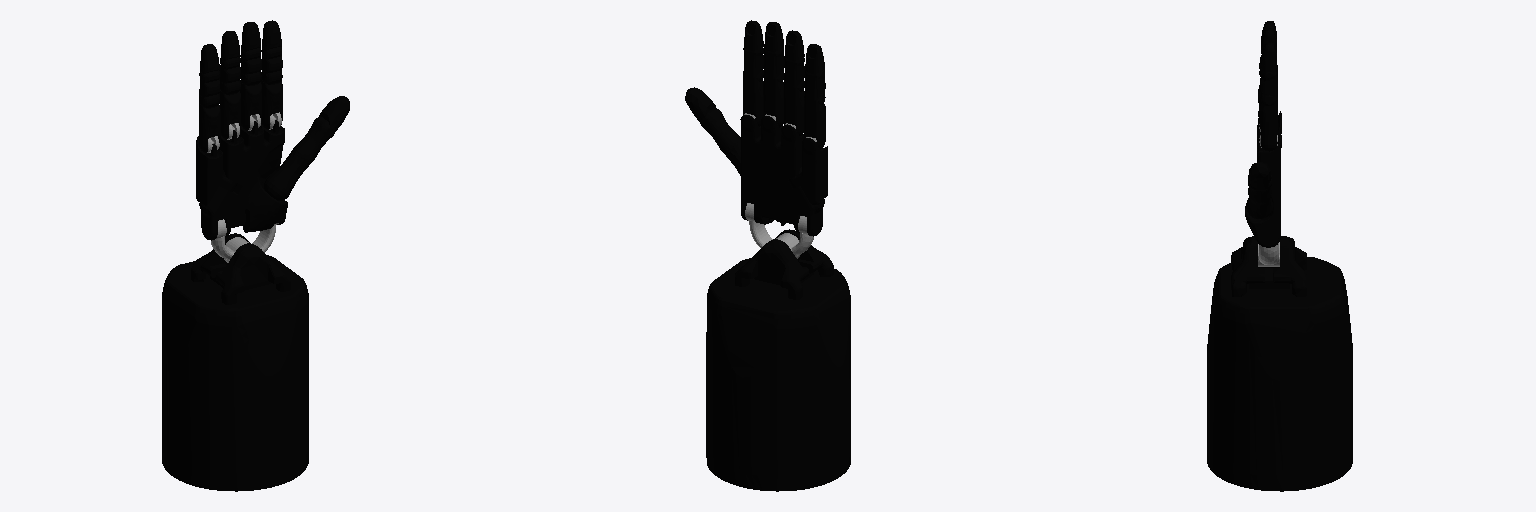
The robot description file, URDF, robot "shadow_hand":
<?xml version="1.0" ?>
<robot name="shadow_hand">

    <!-- Forearm-Wrist-Palm Links -->
    <link name="forearm">
        <visual>
            <geometry name="forearm_visual">
                <mesh filename="meshes/visual/forearm.dae"/>
            </geometry>
        </visual>
        <collision>
            <geometry name="forearm_collision">
                <mesh filename="meshes/collision/forearm.stl"/>
            </geometry>
        </collision>
    </link>

    <link name="wrist">
        <visual>
            <geometry name="wrist_visual">
                <mesh filename="meshes/visual/wrist.dae"/>
            </geometry>
        </visual>
        <collision>
            <geometry name="wrist_collision">
                <mesh filename="meshes/collision/wrist.stl"/>
            </geometry>
        </collision>
    </link>

    <link name="palm">
        <visual>
            <geometry name="palm_visual">
                <mesh filename="meshes/visual/palm.dae"/>
            </geometry>
        </visual>
        <collision>
            <geometry name="palm_collision">
                <mesh filename="meshes/collision/palm.stl"/>
            </geometry>
        </collision>
    </link>


    <!-- Forearm-Wrist Joints -->
    <joint name="forearm_joint" type="revolute">
        <parent link="forearm"/>
        <child link="wrist"/>
        <origin rpy="0 0 0" xyz="0 -0.010 0.213"/>
        <axis xyz="0 1 0"/>
        <limit effort="10.0" lower="-0.523598775598" upper="0.174532925199" velocity="2.0"/>
    </joint>

    <joint name="wrist_joint" type="revolute">
        <parent link="wrist"/>
        <child link="palm"/>
        <origin rpy="0 0 0" xyz="0 0 0.034"/>
        <axis xyz="1 0 0"/>
        <limit effort="5.0" lower="-0.698131700798" upper="0.488692190558" velocity="2.0"/>
    </joint>


    <!-- Thumb Links -->
    <link name="thumb_base"/>

    <link name="thumb_proximal">
        <visual>
            <geometry name="thumb_proximal_visual">
                <mesh filename="meshes/visual/thumb_proximal.dae"/>
            </geometry>
        </visual>
        <collision>
            <geometry name="thumb_proximal_collision">
                <mesh filename="meshes/collision/thumb_proximal.stl"/>
            </geometry>
        </collision>
    </link>

    <link name="thumb_hub"/>

    <link name="thumb_middle">
        <visual>
            <geometry name="thumb_middle_visual">
                <mesh filename="meshes/visual/thumb_middle.dae"/>
            </geometry>
        </visual>
        <collision>
            <geometry name="thumb_middle_collision">
                <mesh filename="meshes/collision/thumb_middle.stl"/>
            </geometry>
        </collision>
    </link>

    <link name="thumb_distal">
        <visual>
            <geometry name="thumb_distal_visual">
                <mesh filename="meshes/visual/thumb_distal.dae"/>
            </geometry>
        </visual>
        <collision>
            <geometry name="thumb_distal_collision">
                <mesh filename="meshes/collision/thumb_distal.stl"/>
            </geometry>
        </collision>
    </link>


    <!-- Thumb Joints -->
    <joint name="thumb_joint1" type="revolute">
        <parent link="palm"/>
        <child link="thumb_base"/>
        <origin rpy="0 0.785398163397 0.0" xyz="0.034 -0.0085 0.029"/>
        <axis xyz="0 0 -1"/>
        <limit effort="4.0" lower="-1.0471975512" upper="1.0471975512" velocity="4.0"/>
    </joint>

    <joint name="thumb_joint2" type="revolute">
        <parent link="thumb_base"/>
        <child link="thumb_proximal"/>
        <axis xyz="1 0 0"/>
        <limit effort="4.0" lower="0.0" upper="1.2217304764" velocity="4.0"/>
    </joint>

    <joint name="thumb_joint3" type="revolute">
        <parent link="thumb_proximal"/>
        <child link="thumb_hub"/>
        <origin rpy="0 0 0" xyz="0 0 0.038"/>
        <axis xyz="1 0 0"/>
        <limit effort="4.0" lower="-0.209439510239" upper="0.209439510239" velocity="4.0"/>
    </joint>

    <joint name="thumb_joint4" type="revolute">
        <parent link="thumb_hub"/>
        <child link="thumb_middle"/>
        <axis xyz="0 -1 0"/>
        <limit effort="4.0" lower="-0.698131700798" upper="0.698131700798" velocity="2.0"/>
    </joint>

    <joint name="thumb_joint5" type="revolute">
        <parent link="thumb_middle"/>
        <child link="thumb_distal"/>
        <origin rpy="0 0 -1.57079632679" xyz="0 0 0.032"/>
        <axis xyz="1 0 0"/>
        <limit effort="4.0" lower="0" upper="1.57079632679" velocity="4.0"/>
    </joint>


    <!-- Index Finger Links -->
    <link name="index_finger_knuckle">
        <visual>
            <origin rpy="0 0 0" xyz="0 0 0.0005"/>
            <geometry name="index_finger_knuckle_visual">
                <mesh filename="meshes/visual/knuckle.dae"/>
            </geometry>
        </visual>
        <collision>
            <origin rpy="0 0 0" xyz="0 0 0.0005"/>
            <geometry name="index_finger_knuckle_collision">
                <mesh filename="meshes/collision/knuckle.stl"/>
            </geometry>
        </collision>
    </link>

    <link name="index_finger_proximal">
        <visual>
            <geometry name="index_finger_proximal_visual">
                <mesh filename="meshes/visual/finger_proximal.dae"/>
            </geometry>
        </visual>
        <collision>
            <geometry name="index_finger_proximal_collision">
                <mesh filename="meshes/collision/finger_proximal.stl"/>
            </geometry>
        </collision>
    </link>

    <link name="index_finger_middle">
        <visual>
            <geometry name="index_finger_middle_visual">
                <mesh filename="meshes/visual/finger_middle.dae"/>
            </geometry>
        </visual>
        <collision>
            <geometry name="index_finger_middle_collision">
                <mesh filename="meshes/collision/finger_middle.stl"/>
            </geometry>
        </collision>
    </link>

    <link name="index_finger_distal">
        <visual>
            <geometry name="index_finger_distal_visual">
                <mesh filename="meshes/visual/finger_distal.dae"/>
            </geometry>
        </visual>
        <collision>
            <geometry name="index_finger_distal_collision">
                <mesh filename="meshes/collision/finger_distal.stl"/>
            </geometry>
        </collision>
    </link>


    <!-- Index Finger Joints -->
    <joint name="index_finger_joint1" type="revolute">
        <parent link="palm"/>
        <child link="index_finger_knuckle"/>
        <origin rpy="0 0 0" xyz="0.033 0 0.095"/>
        <axis xyz="0 -1 0"/>
        <limit effort="4.0" lower="-0.349065850399" upper="0.349065850399" velocity="2.0"/>
    </joint>

    <joint name="index_finger_joint2" type="revolute">
        <parent link="index_finger_knuckle"/>
        <child link="index_finger_proximal"/>
        <axis xyz="1 0 0"/>
        <limit effort="4.0" lower="0" upper="1.57079632679" velocity="2.0"/>
    </joint>

    <joint name="index_finger_joint3" type="revolute">
        <parent link="index_finger_proximal"/>
        <child link="index_finger_middle"/>
        <origin rpy="0 0 0" xyz="0 0 0.045"/>
        <axis xyz="1 0 0"/>
        <limit effort="4.0" lower="0" upper="1.57079632679" velocity="2.0"/>
    </joint>

    <joint name="index_finger_joint4" type="revolute">
        <parent link="index_finger_middle"/>
        <child link="index_finger_distal"/>
        <origin rpy="0 0 0" xyz="0 0 0.025"/>
        <axis xyz="1 0 0"/>
        <limit effort="4.0" lower="0" upper="1.57079632679" velocity="2.0"/>
    </joint>


    <!-- Middle Finger Links -->
    <link name="middle_finger_knuckle">
        <visual>
            <origin rpy="0 0 0" xyz="0 0 0.0005"/>
            <geometry name="middle_finger_knuckle_visual">
                <mesh filename="meshes/visual/knuckle.dae"/>
            </geometry>
        </visual>
        <collision>
            <origin rpy="0 0 0" xyz="0 0 0.0005"/>
            <geometry name="middle_finger_knuckle_collision">
                <mesh filename="meshes/collision/knuckle.stl"/>
            </geometry>
        </collision>
    </link>

    <link name="middle_finger_proximal">
        <visual>
            <geometry name="middle_finger_proximal_visual">
                <mesh filename="meshes/visual/finger_proximal.dae"/>
            </geometry>
        </visual>
        <collision>
            <geometry name="middle_finger_proximal_collision">
                <mesh filename="meshes/collision/finger_proximal.stl"/>
            </geometry>
        </collision>
    </link>

    <link name="middle_finger_middle">
        <visual>
            <geometry name="middle_finger_middle_visual">
                <mesh filename="meshes/visual/finger_middle.dae"/>
            </geometry>
        </visual>
        <collision>
            <geometry name="middle_finger_middle_collision">
                <mesh filename="meshes/collision/finger_middle.stl"/>
            </geometry>
        </collision>
    </link>

    <link name="middle_finger_distal">
        <visual>
            <geometry name="middle_finger_distal_visual">
                <mesh filename="meshes/visual/finger_distal.dae"/>
            </geometry>
        </visual>
        <collision>
            <geometry name="middle_finger_distal_collision">
                <mesh filename="meshes/collision/finger_distal.stl"/>
            </geometry>
        </collision>
    </link>


    <!-- Middle Finger Joints -->
    <joint name="middle_finger_joint1" type="revolute">
        <parent link="palm"/>
        <child link="middle_finger_knuckle"/>
        <origin rpy="0 0 0" xyz="0.011 0 0.099"/>
        <axis xyz="0 -1 0"/>
        <limit effort="4.0" lower="-0.349065850399" upper="0.349065850399" velocity="2.0"/>
    </joint>

    <joint name="middle_finger_joint2" type="revolute">
        <parent link="middle_finger_knuckle"/>
        <child link="middle_finger_proximal"/>
        <axis xyz="1 0 0"/>
        <limit effort="4.0" lower="0" upper="1.57079632679" velocity="2.0"/>
    </joint>

    <joint name="middle_finger_joint3" type="revolute">
        <parent link="middle_finger_proximal"/>
        <child link="middle_finger_middle"/>
        <origin rpy="0 0 0" xyz="0 0 0.045"/>
        <axis xyz="1 0 0"/>
        <limit effort="4.0" lower="0" upper="1.57079632679" velocity="2.0"/>
    </joint>

    <joint name="middle_finger_joint4" type="revolute">
        <parent link="middle_finger_middle"/>
        <child link="middle_finger_distal"/>
        <origin rpy="0 0 0" xyz="0 0 0.025"/>
        <axis xyz="1 0 0"/>
        <limit effort="4.0" lower="0" upper="1.57079632679" velocity="2.0"/>
    </joint>


    <!-- Ring Finger Links -->
    <link name="ring_finger_knuckle">
        <visual>
            <origin rpy="0 0 0" xyz="0 0 0.0005"/>
            <geometry name="ring_finger_knuckle_visual">
                <mesh filename="meshes/visual/knuckle.dae"/>
            </geometry>
        </visual>
        <collision>
            <origin rpy="0 0 0" xyz="0 0 0.0005"/>
            <geometry name="ring_finger_knuckle_collision">
                <mesh filename="meshes/collision/knuckle.stl"/>
            </geometry>
        </collision>
    </link>

    <link name="ring_finger_proximal">
        <visual>
            <geometry name="ring_finger_proximal_visual">
                <mesh filename="meshes/visual/finger_proximal.dae"/>
            </geometry>
        </visual>
        <collision>
            <geometry name="ring_finger_proximal_collision">
                <mesh filename="meshes/collision/finger_proximal.stl"/>
            </geometry>
        </collision>
    </link>

    <link name="ring_finger_middle">
        <visual>
            <geometry name="ring_finger_middle_visual">
                <mesh filename="meshes/visual/finger_middle.dae"/>
            </geometry>
        </visual>
        <collision>
            <geometry name="ring_finger_middle_collision">
                <mesh filename="meshes/collision/finger_middle.stl"/>
            </geometry>
        </collision>
    </link>

    <link name="ring_finger_distal">
        <visual>
            <geometry name="ring_finger_distal_visual">
                <mesh filename="meshes/visual/finger_distal.dae"/>
            </geometry>
        </visual>
        <collision>
            <geometry name="ring_finger_distal_collision">
                <mesh filename="meshes/collision/finger_distal.stl"/>
            </geometry>
        </collision>
    </link>


    <!-- Ring Finger Joints -->
    <joint name="ring_finger_joint1" type="revolute">
        <parent link="palm"/>
        <child link="ring_finger_knuckle"/>
        <origin rpy="0 0 0" xyz="-0.011 0 0.095"/>
        <axis xyz="0 1 0"/>
        <limit effort="4.0" lower="-0.349065850399" upper="0.349065850399" velocity="2.0"/>
    </joint>

    <joint name="ring_finger_joint2" type="revolute">
        <parent link="ring_finger_knuckle"/>
        <child link="ring_finger_proximal"/>
        <axis xyz="1 0 0"/>
        <limit effort="4.0" lower="0" upper="1.57079632679" velocity="2.0"/>
    </joint>

    <joint name="ring_finger_joint3" type="revolute">
        <parent link="ring_finger_proximal"/>
        <child link="ring_finger_middle"/>
        <origin rpy="0 0 0" xyz="0 0 0.045"/>
        <axis xyz="1 0 0"/>
        <limit effort="4.0" lower="0" upper="1.57079632679" velocity="2.0"/>
    </joint>

    <joint name="ring_finger_joint4" type="revolute">
        <parent link="ring_finger_middle"/>
        <child link="ring_finger_distal"/>
        <origin rpy="0 0 0" xyz="0 0 0.025"/>
        <axis xyz="1 0 0"/>
        <limit effort="4.0" lower="0" upper="1.57079632679" velocity="2.0"/>
    </joint>


    <!-- Little Finger Links -->
    <link name="little_finger_metacarpal">
        <visual>
            <geometry name="little_finger_metacarpal_visual">
                <mesh filename="meshes/visual/metacarpal.dae"/>
            </geometry>
        </visual>
        <collision>
            <geometry name="little_finger_metacarpal_collision">
                <mesh filename="meshes/collision/metacarpal.stl"/>
            </geometry>
        </collision>
    </link>

    <link name="little_finger_knuckle">
        <visual>
            <origin rpy="0 0 0" xyz="0 0 0.0005"/>
            <geometry name="little_finger_knuckle_visual">
                <mesh filename="meshes/visual/knuckle.dae"/>
            </geometry>
        </visual>
        <collision>
            <origin rpy="0 0 0" xyz="0 0 0.0005"/>
            <geometry name="little_finger_knuckle_collision">
                <mesh filename="meshes/collision/knuckle.stl"/>
            </geometry>
        </collision>
    </link>

    <link name="little_finger_proximal">
        <visual>
            <geometry name="little_finger_proximal_visual">
                <mesh filename="meshes/visual/finger_proximal.dae"/>
            </geometry>
        </visual>
        <collision>
            <geometry name="little_finger_proximal_collision">
                <mesh filename="meshes/collision/finger_proximal.stl"/>
            </geometry>
        </collision>
    </link>

    <link name="little_finger_middle">
        <visual>
            <geometry name="little_finger_middle_visual">
                <mesh filename="meshes/visual/finger_middle.dae"/>
            </geometry>
        </visual>
        <collision>
            <geometry name="little_finger_middle_collision">
                <mesh filename="meshes/collision/finger_middle.stl"/>
            </geometry>
        </collision>
    </link>

    <link name="little_finger_distal">
        <visual>
            <geometry name="little_finger_distal_visual">
                <mesh filename="meshes/visual/finger_distal.dae"/>
            </geometry>
        </visual>
        <collision>
            <geometry name="little_finger_distal_collision">
                <mesh filename="meshes/collision/finger_distal.stl"/>
            </geometry>
        </collision>
    </link>


    <!-- Little Finger Joints -->
    <joint name="little_finger_joint1" type="revolute">
        <parent link="palm"/>
        <child link="little_finger_metacarpal"/>
        <origin rpy="0 0 0" xyz="-0.033 0 0.02071"/>
        <axis xyz="0.573576436 0 0.819152044"/>
        <limit effort="4.0" lower="0" upper="0.785398163397" velocity="2.0"/>
    </joint>

    <joint name="little_finger_joint2" type="revolute">
        <parent link="little_finger_metacarpal"/>
        <child link="little_finger_knuckle"/>
        <origin rpy="0 0 0" xyz="0 0 0.06579"/>
        <axis xyz="0 1 0"/>
        <limit effort="4.0" lower="-0.349065850399" upper="0.349065850399" velocity="2.0"/>
    </joint>

    <joint name="little_finger_joint3" type="revolute">
        <parent link="little_finger_knuckle"/>
        <child link="little_finger_proximal"/>
        <axis xyz="1 0 0"/>
        <limit effort="4.0" lower="0" upper="1.57079632679" velocity="2.0"/>
    </joint>

    <joint name="little_finger_joint4" type="revolute">
        <parent link="little_finger_proximal"/>
        <child link="little_finger_middle"/>
        <origin rpy="0 0 0" xyz="0 0 0.045"/>
        <axis xyz="1 0 0"/>
        <limit effort="4.0" lower="0" upper="1.57079632679" velocity="2.0"/>
    </joint>

    <joint name="little_finger_joint5" type="revolute">
        <parent link="little_finger_middle"/>
        <child link="little_finger_distal"/>
        <origin rpy="0 0 0" xyz="0 0 0.025"/>
        <axis xyz="1 0 0"/>
        <limit effort="4.0" lower="0" upper="1.57079632679" velocity="2.0"/>
    </joint>

</robot>

--- Render facts (derived) ---
Views: 3 orthographic renders of the robot side by side, from view 1: azimuth 30°, elevation 25°; view 2: azimuth 150°, elevation 25°; view 3: azimuth 270°, elevation 25°.
Robot: shadow_hand — 25 links, 24 joints (24 revolute); root link forearm; default pose: all joints at 0.
Visible links, largest first — view 1: forearm, palm, little_finger_metacarpal, thumb_proximal, wrist, thumb_middle, little_finger_proximal, middle_finger_proximal, index_finger_proximal, ring_finger_proximal, ring_finger_middle, middle_finger_middle (+3 smaller); view 2: forearm, palm, little_finger_metacarpal, wrist, thumb_middle, little_finger_proximal, middle_finger_proximal, ring_finger_proximal, index_finger_proximal, thumb_distal, little_finger_middle, middle_finger_middle (+2 smaller); view 3: forearm, palm, index_finger_proximal, index_finger_middle.
Link boxes in pixels (<box>): forearm: <box>162,233,308,491</box>; palm: <box>199,120,287,240</box>; little_finger_metacarpal: <box>196,136,237,205</box>; thumb_proximal: <box>264,149,308,200</box>; wrist: <box>211,219,278,262</box>; thumb_middle: <box>293,116,335,164</box>; little_finger_proximal: <box>199,103,220,152</box>; middle_finger_proximal: <box>240,80,261,130</box>; index_finger_proximal: <box>261,80,282,129</box>; ring_finger_proximal: <box>220,90,240,139</box>; ring_finger_middle: <box>220,57,240,94</box>; middle_finger_middle: <box>241,48,261,85</box>; forearm: <box>706,229,850,491</box>; palm: <box>740,115,824,236</box>; little_finger_metacarpal: <box>788,138,827,204</box>; wrist: <box>745,203,813,258</box>; thumb_middle: <box>700,108,740,154</box>; little_finger_proximal: <box>804,99,825,149</box>; middle_finger_proximal: <box>763,77,783,127</box>; ring_finger_proximal: <box>784,85,804,135</box>; index_finger_proximal: <box>743,75,763,126</box>; thumb_distal: <box>685,87,715,121</box>; little_finger_middle: <box>804,70,825,104</box>; middle_finger_middle: <box>763,48,784,82</box>; forearm: <box>1207,236,1352,491</box>; palm: <box>1245,113,1281,247</box>; index_finger_proximal: <box>1258,99,1277,151</box>; index_finger_middle: <box>1259,70,1277,105</box>.
Size in the robot's own frame: 0.1782 by 0.1351 by 0.4454 metres.
Meshes: 11 distinct files referenced, 23 mesh visuals loaded (11 Collada DAE).
